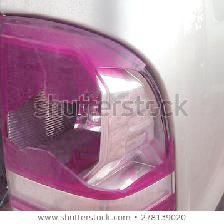tail_lamp: (4, 70, 173, 199)
